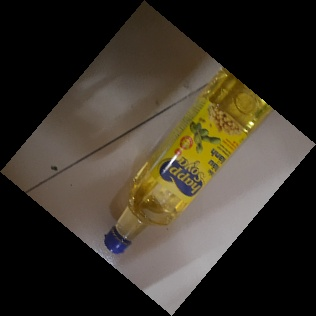Happy Soya: (101, 61, 280, 256)
